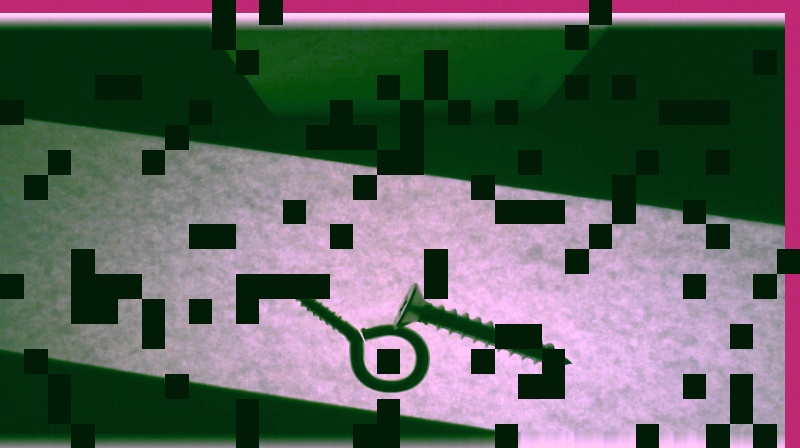O001: (289, 287, 426, 391)
S001: (385, 281, 577, 366)
